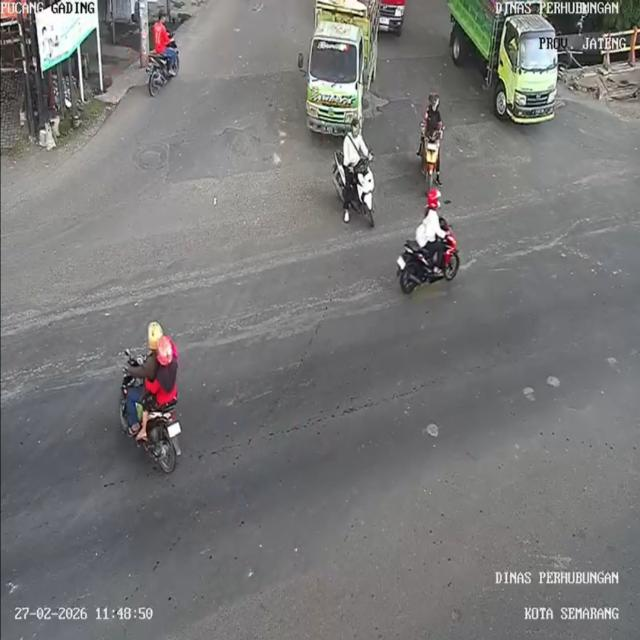motorcycle: (119, 364, 186, 474), (331, 150, 385, 227), (394, 243, 464, 290), (144, 43, 188, 94), (420, 135, 440, 191)
person: (153, 341, 182, 412), (132, 323, 162, 388), (420, 189, 445, 254), (344, 120, 369, 174), (426, 93, 448, 142), (151, 14, 173, 52)
rider_region: (117, 317, 194, 475), (399, 188, 467, 295), (328, 115, 384, 232), (142, 12, 181, 88), (418, 98, 446, 190)
